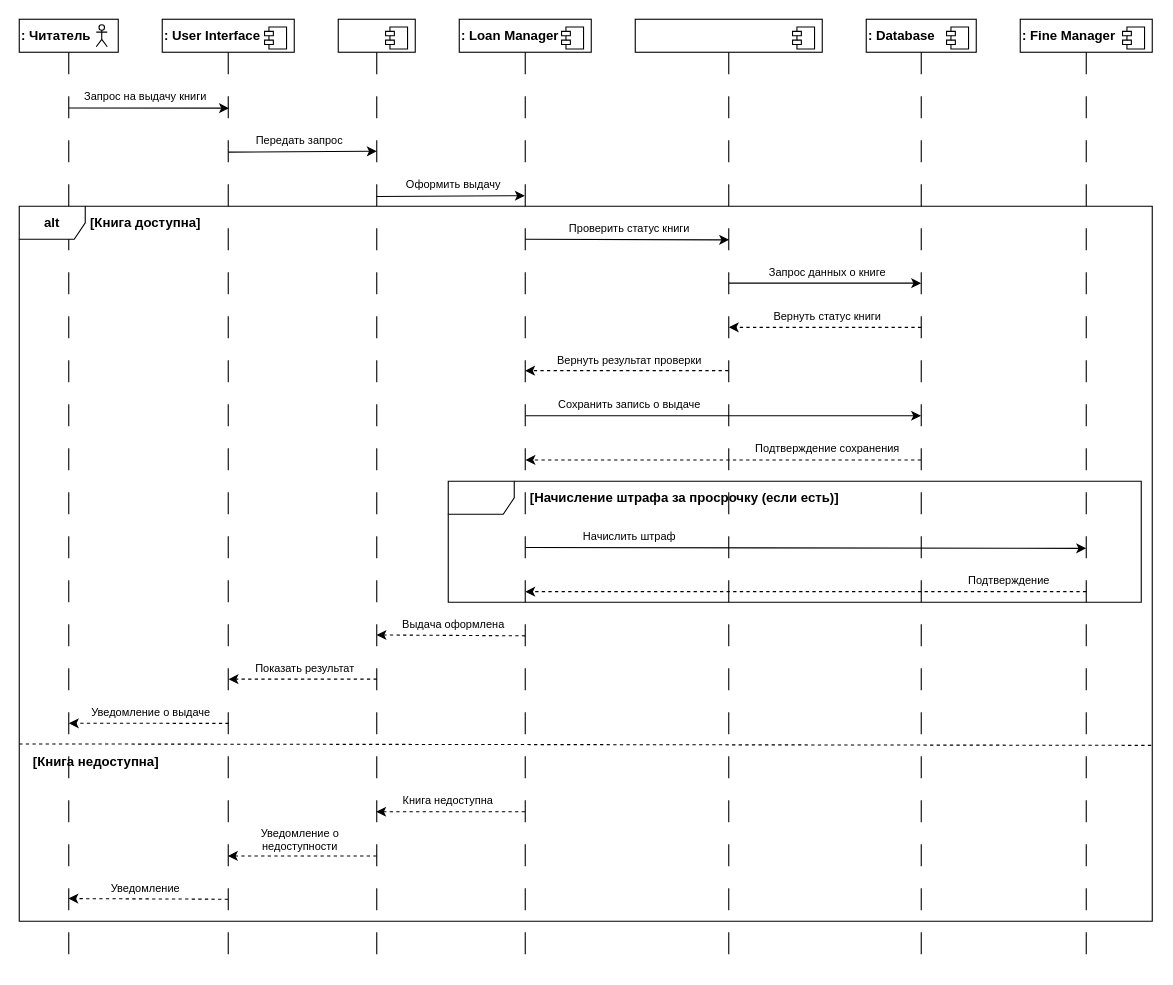
Image size: 1173x985. Some labels were removed from this diagram. The shapes that lost their labels are listed below. From the top down, each one's box as (x1, y1, x2, y2) in pixels, then its label:
(337, 18, 415, 52): : Core
(634, 18, 822, 52): : Book Catalog Manager
(447, 480, 1141, 602): opt
